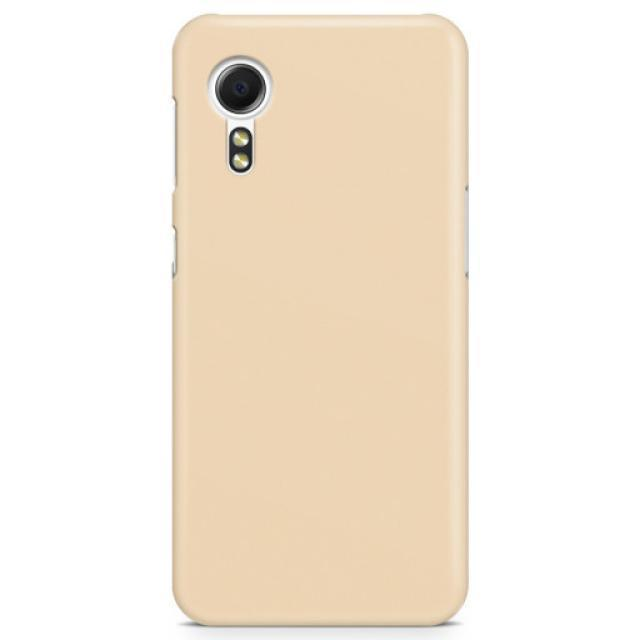phone: (169, 12, 473, 627)
